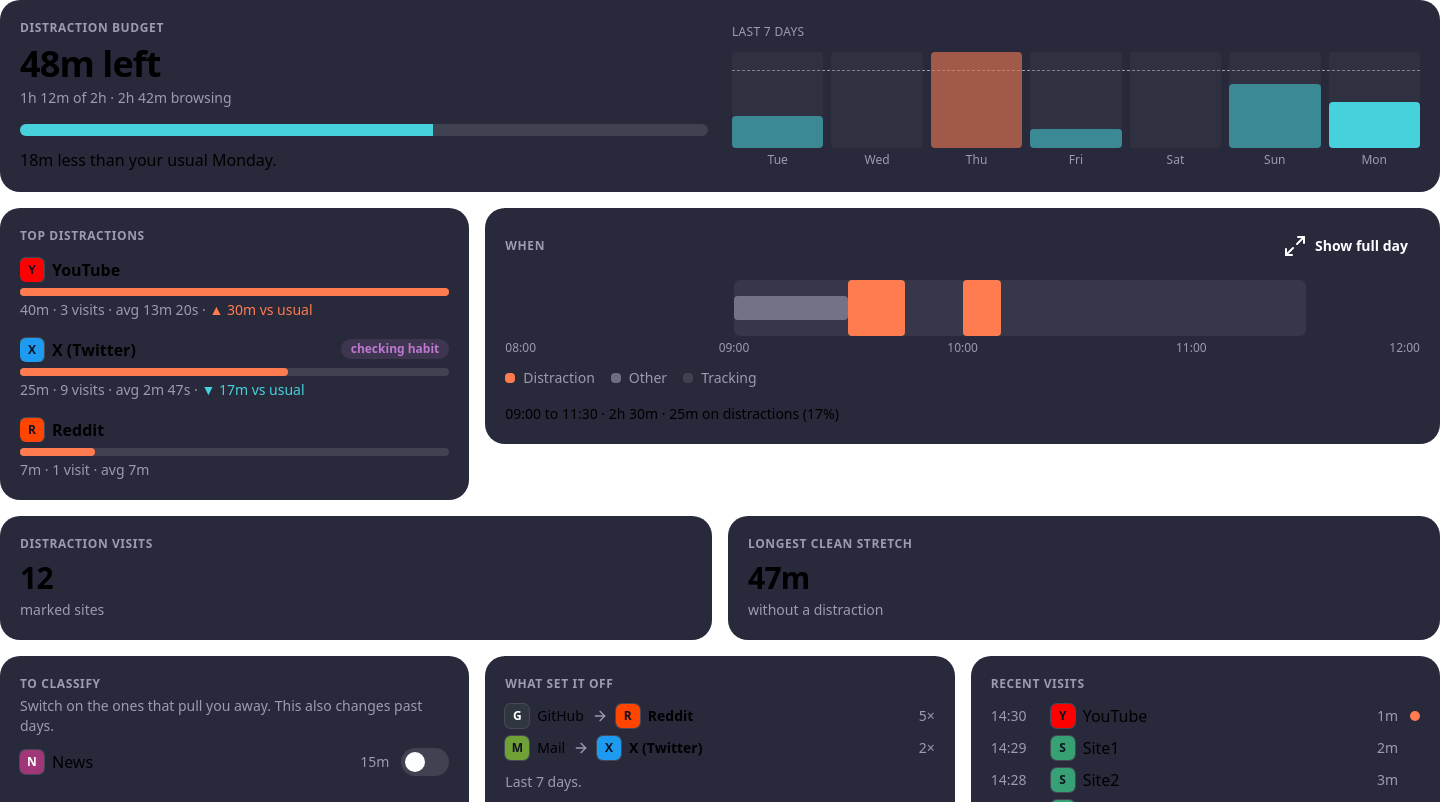
the timeline › switches between the active hours and the full day
Expected: the text "24:00" is not shown
What coordinates should you click on to do the following:
click the button "Show full day"
I would click on:
 (1346, 246)
Its box is [1271, 228, 1420, 264].
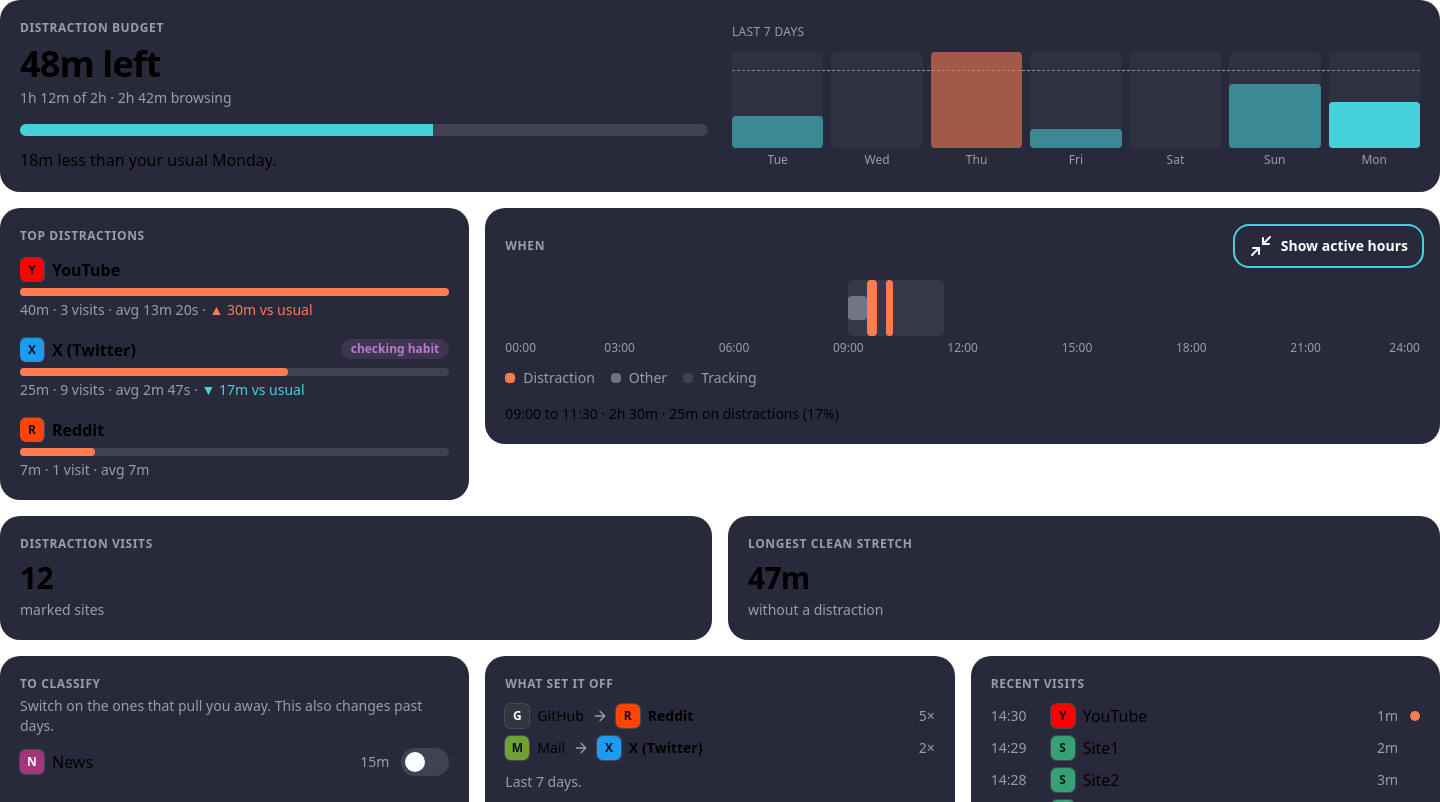
Now the button "Show active hours" is shown, box [1237, 228, 1420, 264]
Now the text "24:00" is shown, box [1389, 340, 1420, 356]
